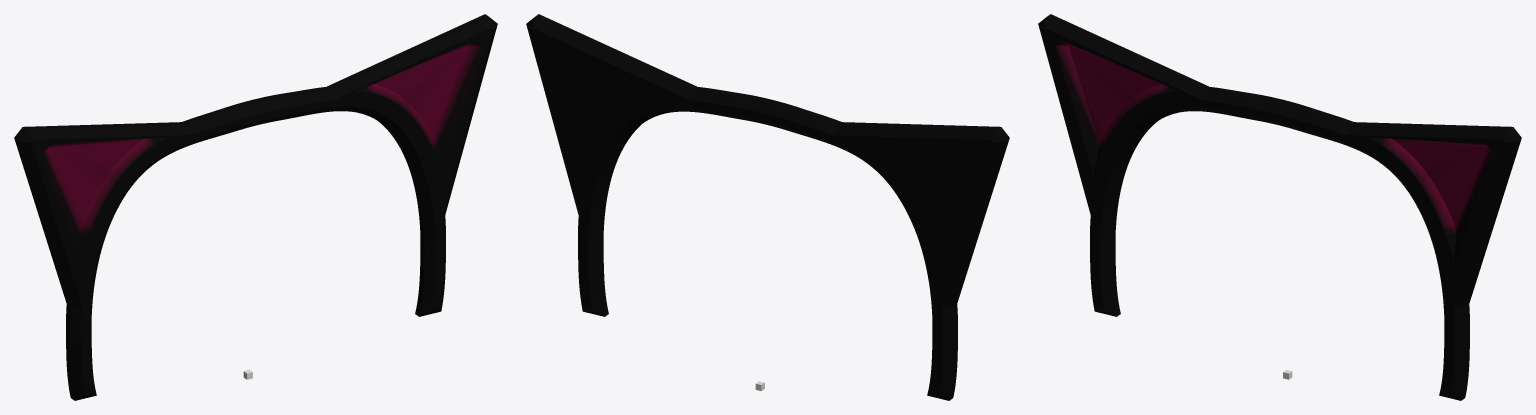
File: catears.fbx
3 renders of one model, left to right at view 1: azimuth 30°, elevation 25°; view 2: azimuth 150°, elevation 25°; view 3: azimuth 330°, elevation 25°, orthographic.
Visible parts, largest first — view 1: catearspoly; view 2: catearspoly; view 3: catearspoly.
Boxes of the visible parts, bbox=[...] form: catearspoly: bbox=[14, 14, 497, 400]; catearspoly: bbox=[526, 14, 1009, 400]; catearspoly: bbox=[1038, 14, 1521, 400].
Bounding box in the file's own units: 16242 × 10084 × 933.
